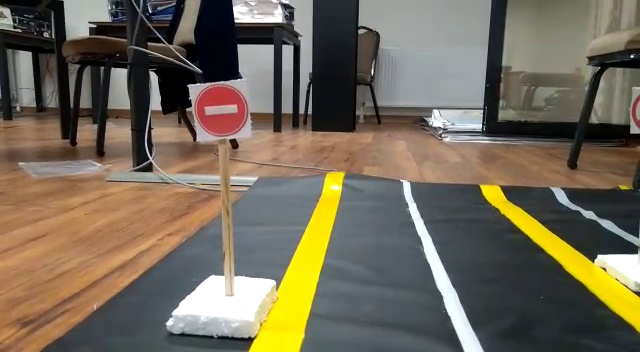girisi_olmayan_yol: (190, 78, 254, 137)
